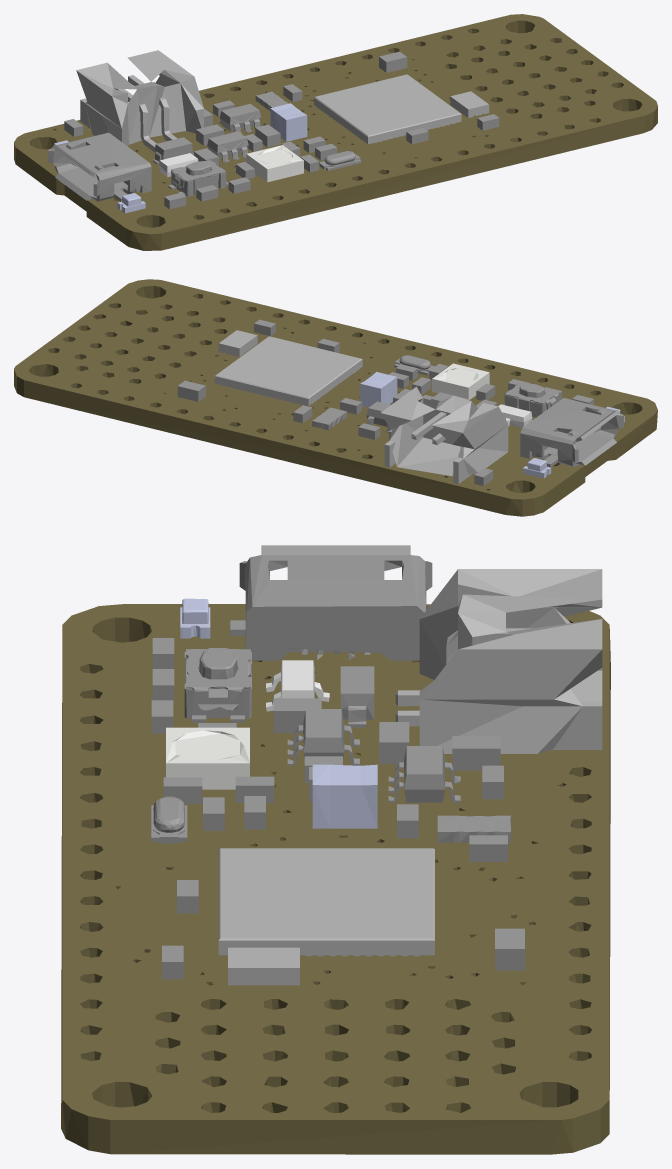
The model's file is adafruit-3857-feather-m4-express.glb.
3 views of the same model, one above another, from view 1: azimuth 30°, elevation 25°; view 2: azimuth 150°, elevation 25°; view 3: azimuth 270°, elevation 25° (orthographic). The views are drawn at different scales.
Visible parts, largest first — view 1: colour 1, colour 4, colour 2, colour 5, colour 7, colour 6, colour 3; view 2: colour 1, colour 4, colour 2, colour 5, colour 7, colour 6, colour 3; view 3: colour 1, colour 4, colour 2, colour 5, colour 7, colour 6, colour 3.
Part boxes in pixels (bbox=[...]): colour 1: bbox=[14, 14, 657, 250]; colour 4: bbox=[76, 50, 489, 152]; colour 2: bbox=[48, 51, 499, 209]; colour 5: bbox=[246, 145, 303, 182]; colour 7: bbox=[270, 103, 307, 141]; colour 6: bbox=[159, 153, 198, 177]; colour 3: bbox=[54, 140, 145, 213]; colour 1: bbox=[14, 279, 657, 516]; colour 4: bbox=[214, 330, 508, 484]; colour 2: bbox=[177, 319, 623, 485]; colour 5: bbox=[432, 363, 489, 399]; colour 7: bbox=[360, 372, 397, 407]; colour 6: bbox=[498, 404, 532, 427]; colour 3: bbox=[523, 406, 624, 478]; colour 1: bbox=[61, 604, 610, 1154]; colour 4: bbox=[218, 569, 602, 985]; colour 2: bbox=[151, 545, 524, 979]; colour 5: bbox=[166, 727, 249, 789]; colour 7: bbox=[312, 764, 377, 828]; colour 6: bbox=[266, 660, 329, 711]; colour 3: bbox=[180, 598, 210, 638].
Size of the model in its own units: 0.0509 by 0.00637 by 0.0229.
